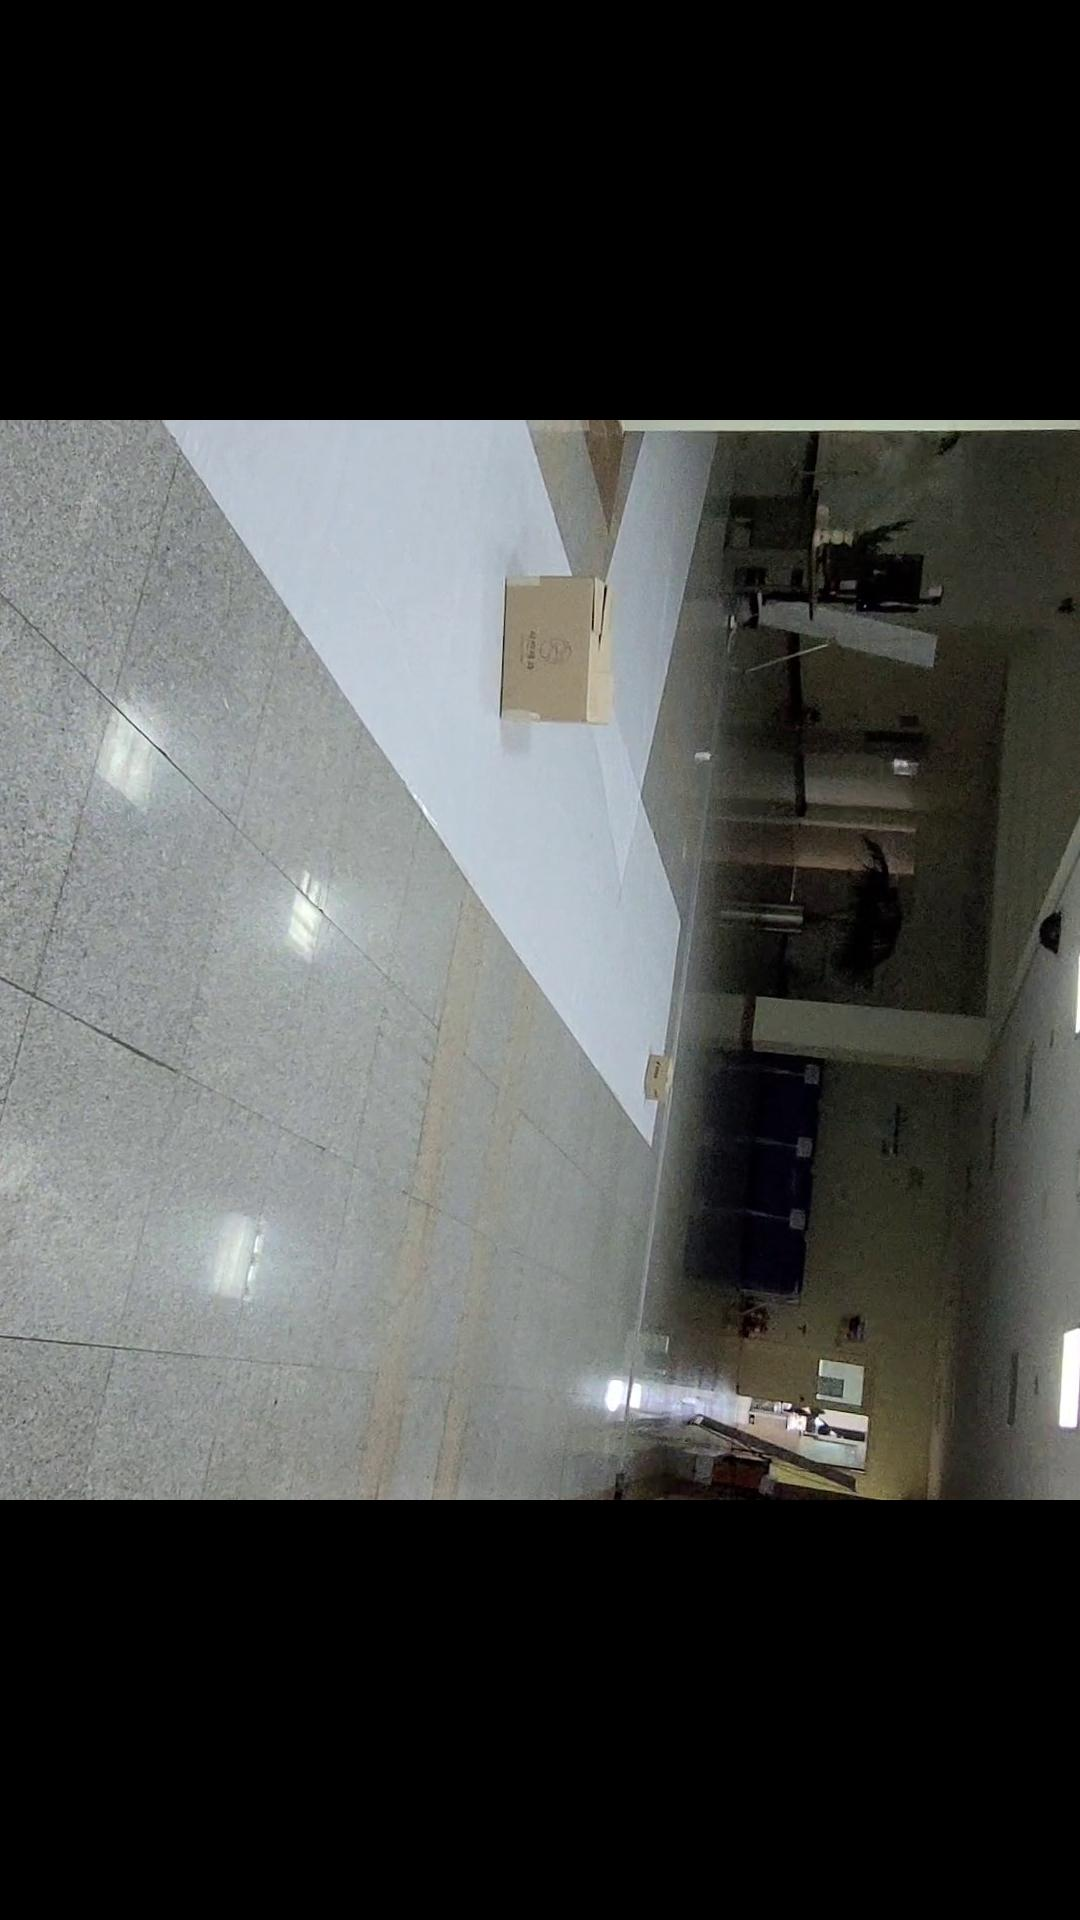Box: (469, 549, 640, 767), (625, 1018, 695, 1127)
